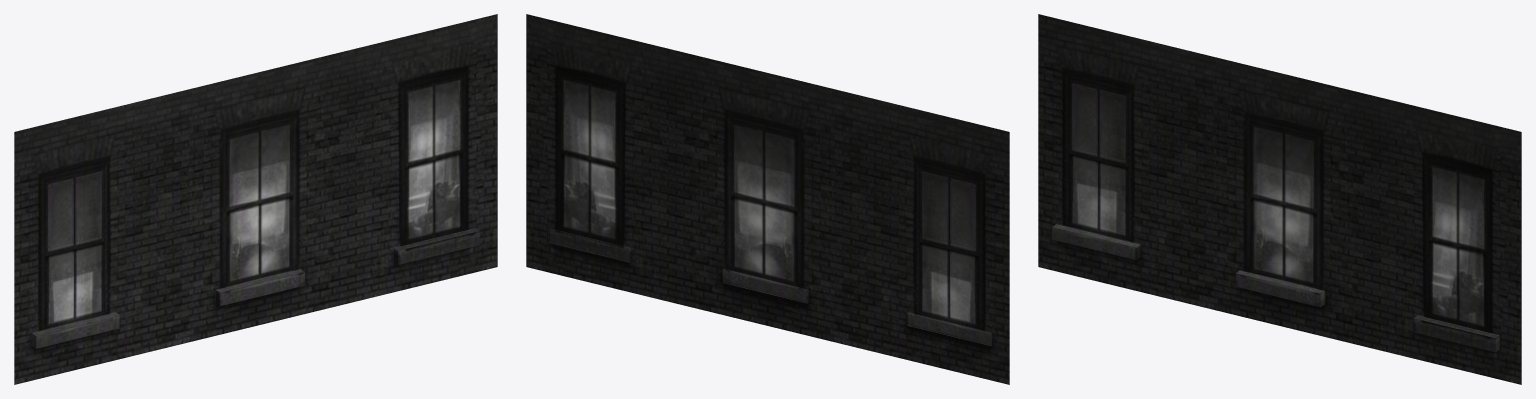
The model's file is floor.obj.
3 views of the same model, side by side, from view 1: azimuth 30°, elevation 25°; view 2: azimuth 150°, elevation 25°; view 3: azimuth 330°, elevation 25° (orthographic).
Parts seen in each view (by area): view 1: group; view 2: group; view 3: group.
Boxes of the visible parts, x1,y1,x2,y2 form: group: (14, 14, 497, 384); group: (526, 14, 1009, 384); group: (1038, 14, 1521, 384).
Size of the model in its own units: 10 by 5 by 0.157.
1 material, 1 textured.
